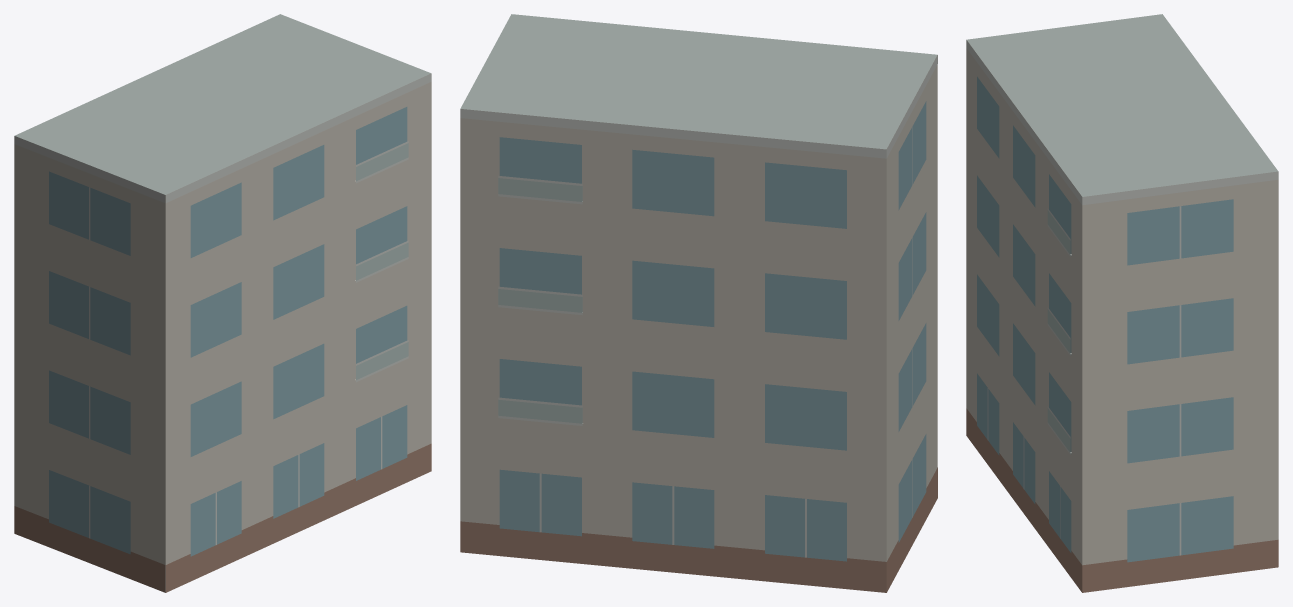
The model's file is survey-upis-32498435.glb.
3 views of the same model, side by side, from view 1: azimuth 30°, elevation 25°; view 2: azimuth 150°, elevation 25°; view 3: azimuth 270°, elevation 25° (orthographic). The views are drawn at different scales.
Visible parts, largest first — view 1: survey-upis-32498435.tmp; view 2: survey-upis-32498435.tmp; view 3: survey-upis-32498435.tmp.
Boxes of the visible parts, box(x1,y1,x2,y2) form: survey-upis-32498435.tmp: box(14, 14, 431, 592); survey-upis-32498435.tmp: box(460, 14, 937, 592); survey-upis-32498435.tmp: box(966, 14, 1278, 592).
Size of the model in its own units: 11.61 by 11.7 by 8.37.
